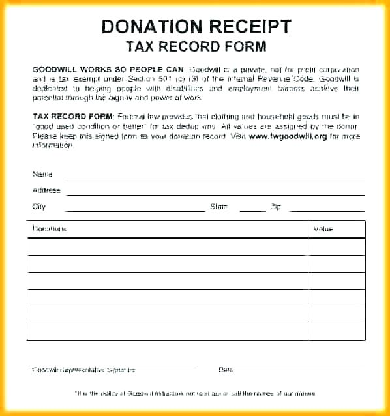textbox: (23, 269, 312, 293), (23, 235, 310, 259), (23, 251, 310, 275), (23, 320, 310, 344), (25, 286, 311, 310), (25, 303, 311, 325), (305, 234, 368, 258), (305, 320, 368, 344), (305, 252, 369, 275), (305, 303, 369, 326), (305, 269, 368, 292), (305, 286, 368, 309)
textline: (65, 183, 368, 198), (65, 168, 367, 183), (25, 350, 197, 369), (211, 349, 367, 369), (64, 200, 209, 214), (286, 199, 368, 217), (235, 200, 268, 215)
